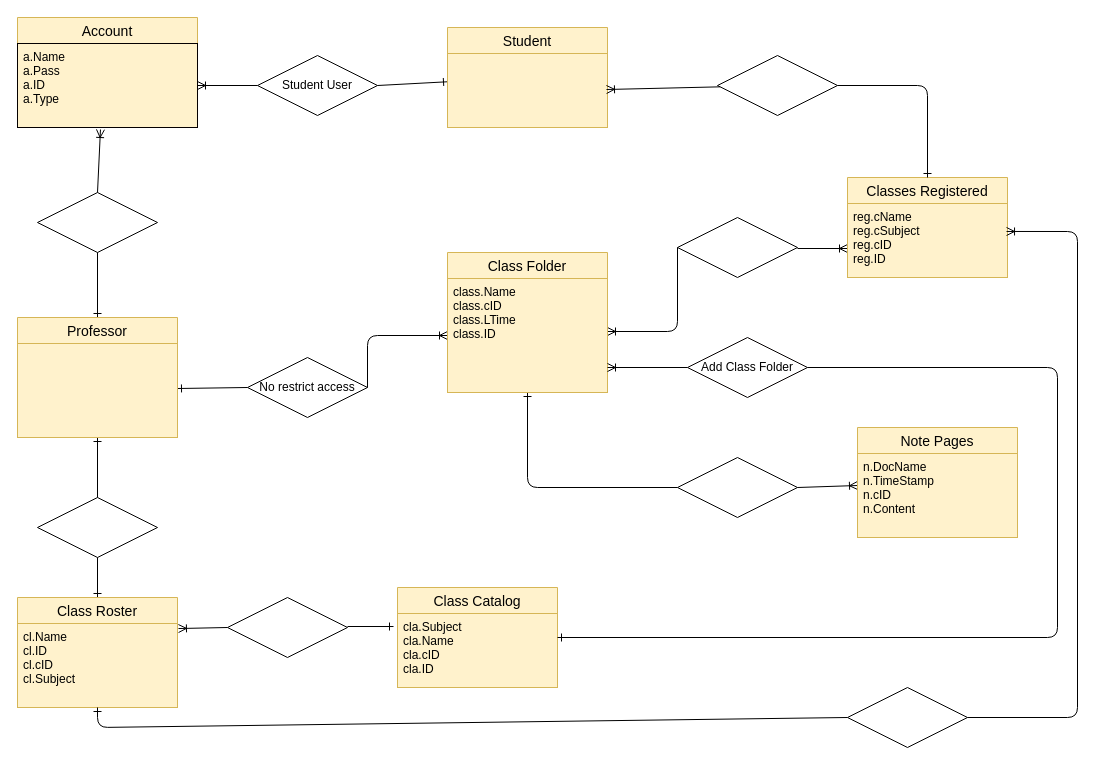
This 1103x765 diagram has some shape labels left out. Here are the shapes that lost their labels. From the top down, the centre of each, then its label:
At point (527, 90): "s.Name s.ID s.Age s.Year".
At point (777, 85): "View Class Schedule".
At point (97, 222): "Admin Privilege".
At point (737, 247): "View into classes".
At point (97, 390): "p.Name p.ID p.Class".
At point (737, 487): "Access Notes".
At point (97, 527): "Edit and view".
At point (287, 627): "Creating Class Rosters".
At point (907, 717): "Add to Schedule".
